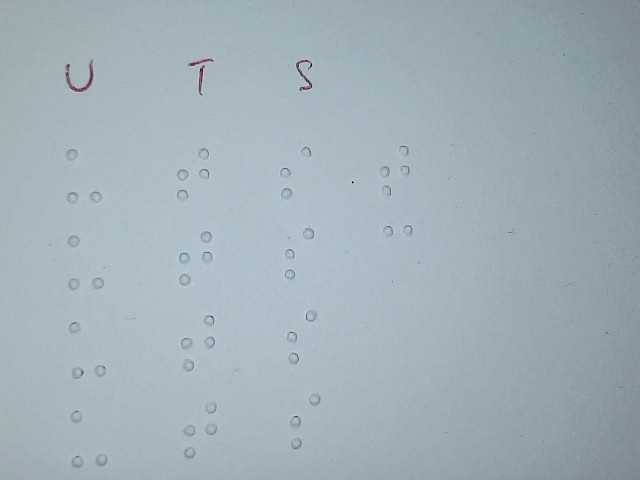S: (278, 144, 312, 201), (283, 225, 317, 282), (285, 308, 319, 365), (288, 391, 322, 448)
T: (175, 145, 213, 202), (176, 229, 214, 286), (180, 313, 217, 371), (181, 400, 218, 458)
U: (66, 232, 105, 292), (68, 319, 107, 379), (69, 408, 108, 468), (65, 147, 103, 204)
